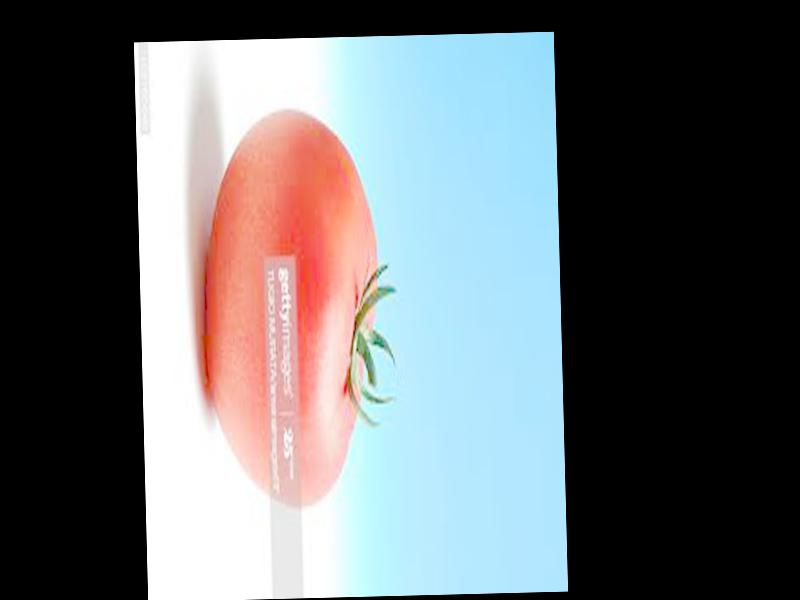Tomato: (202, 110, 382, 512)
